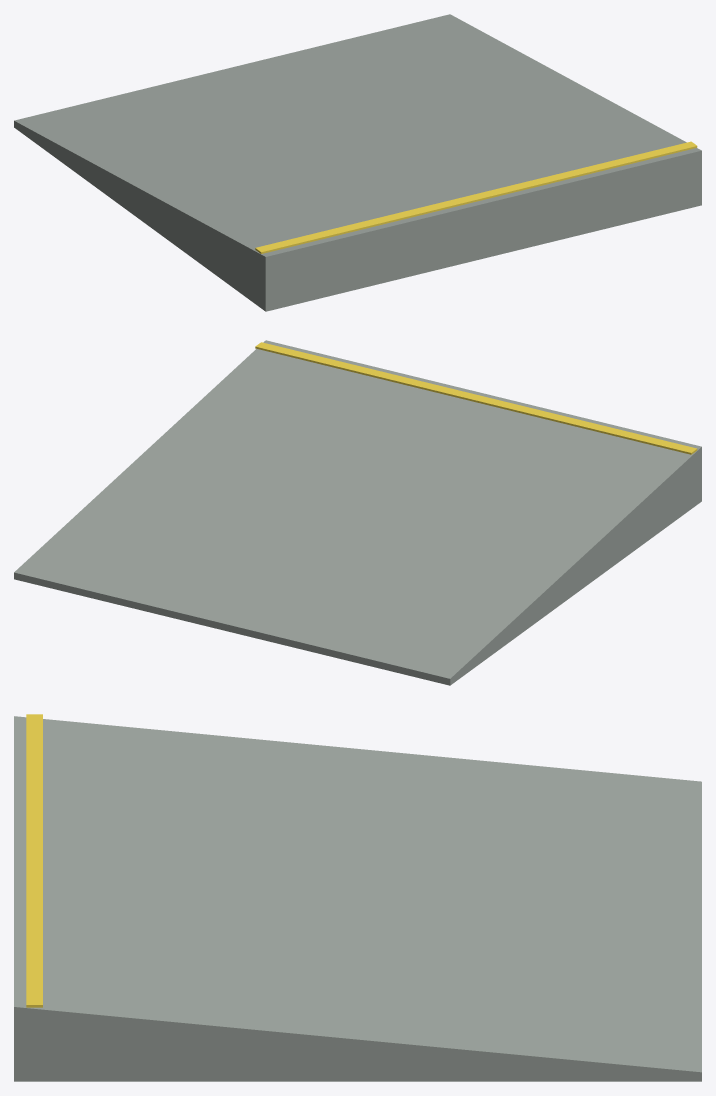
File: prison-complex-builder-floor-threshold-ramp-5fd13e3d__25624.glb
3 views of the same model, one above another, from view 1: azimuth 30°, elevation 25°; view 2: azimuth 150°, elevation 25°; view 3: azimuth 270°, elevation 25° (orthographic). The views are drawn at different scales.
Parts seen in each view (by area): view 1: floor-threshold-ramp; view 2: floor-threshold-ramp; view 3: floor-threshold-ramp.
Part boxes in pixels (x1=…): floor-threshold-ramp: x1=14, y1=14, x2=701, y2=311; floor-threshold-ramp: x1=14, y1=340, x2=701, y2=685; floor-threshold-ramp: x1=14, y1=714, x2=701, y2=1081.
Size of the model in its own units: 1 by 0.123 by 1.
